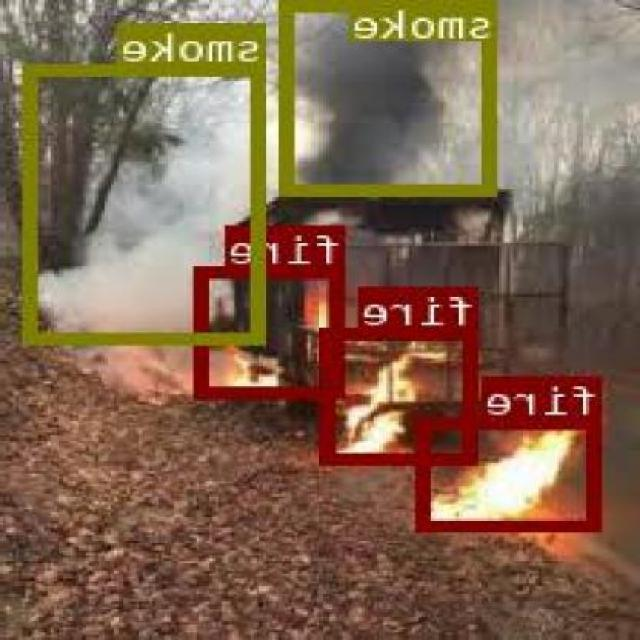Fire: (323, 328, 482, 463), (420, 416, 603, 530), (197, 266, 346, 394)
Smoke: (25, 61, 268, 342), (283, 0, 502, 194)
